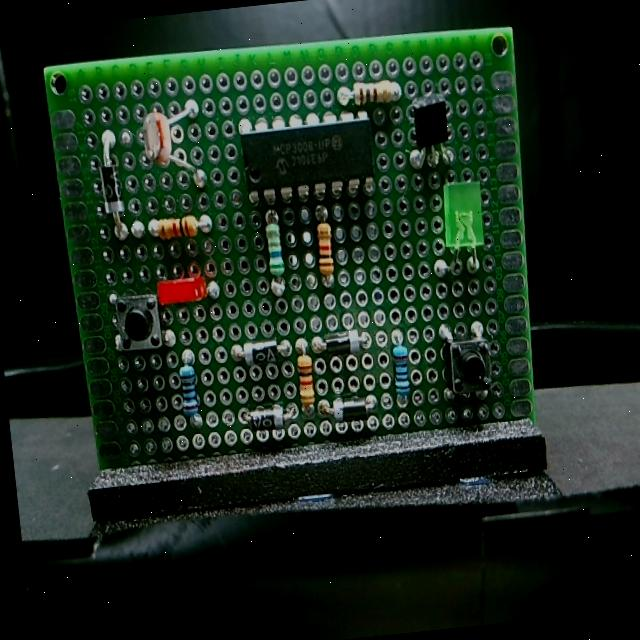IC: (224, 99, 384, 202)
cds: (133, 108, 176, 171)
diode: (316, 314, 368, 360), (94, 156, 130, 220), (247, 396, 296, 442), (234, 332, 291, 371), (328, 390, 376, 428)
led: (438, 172, 493, 270)
resistor: (306, 212, 346, 301), (256, 202, 291, 292), (342, 68, 407, 112), (154, 262, 207, 314), (144, 204, 210, 244), (388, 342, 424, 414), (172, 356, 202, 421), (296, 346, 318, 416)
switch: (428, 314, 504, 411), (109, 289, 165, 359)
transistor: (409, 100, 459, 167)
